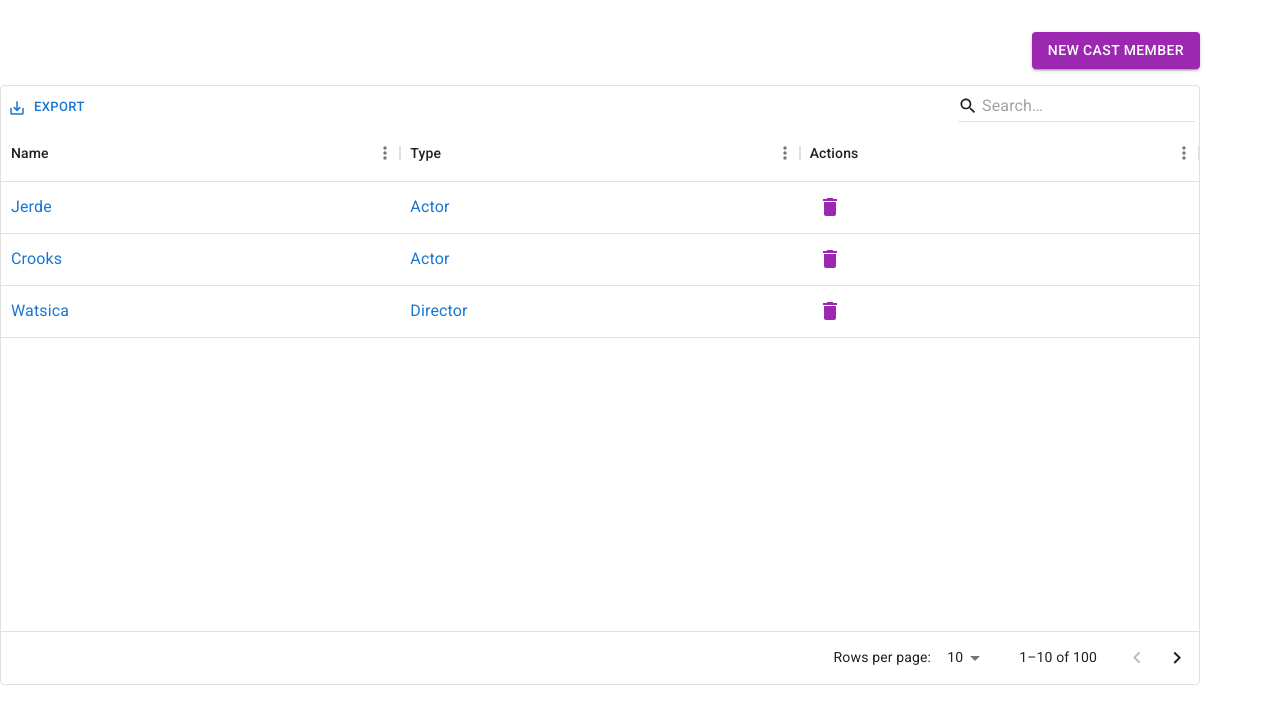
Test: ListCastMembers › should handle delete cast member error
Expected: the text "Jerde" is shown, [11,195,52,219]
Click the button with test id "delete-button" in the row of "Jerde" at (830, 207), box [810,187,850,227]
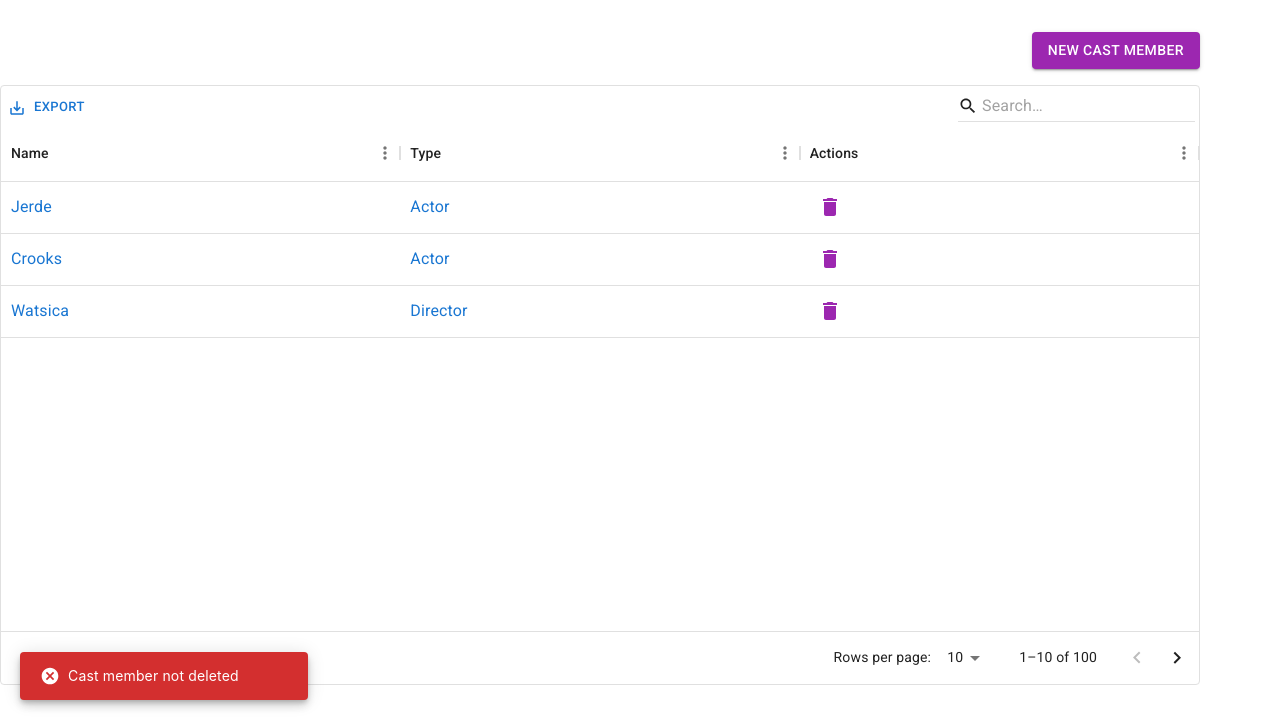
Expected: the text "Cast member not deleted" is shown, [40,666,239,686]
